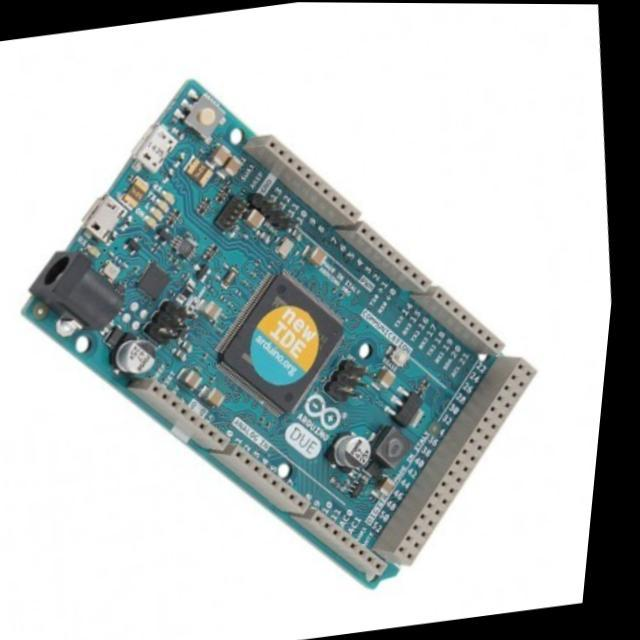Arduino-Due: (27, 81, 535, 584)
